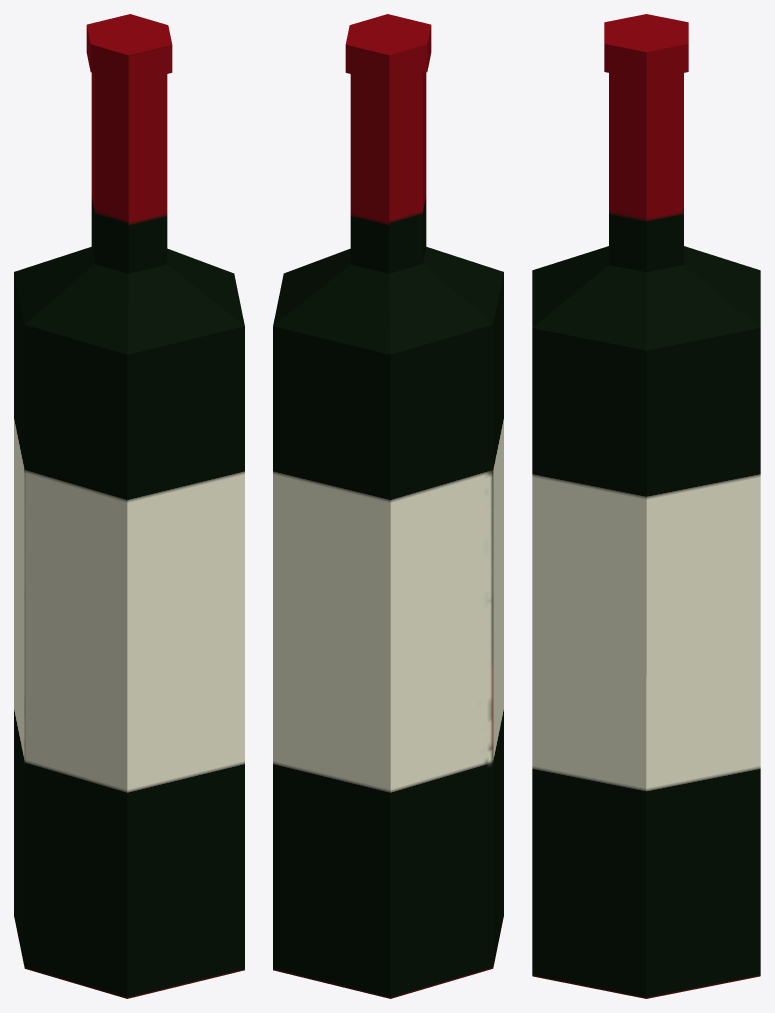
File: botella 1.fbx
3 views of the same model, side by side, from view 1: azimuth 30°, elevation 25°; view 2: azimuth 150°, elevation 25°; view 3: azimuth 270°, elevation 25° (orthographic).
Visible parts, largest first — view 1: Cube; view 2: Cube; view 3: Cube.
Boxes of the visible parts, x1,y1,x2,y2 form: Cube: (14, 14, 244, 998); Cube: (273, 14, 503, 998); Cube: (532, 14, 760, 998).
Size of the model in its own units: 31.32 by 130 by 29.34.
